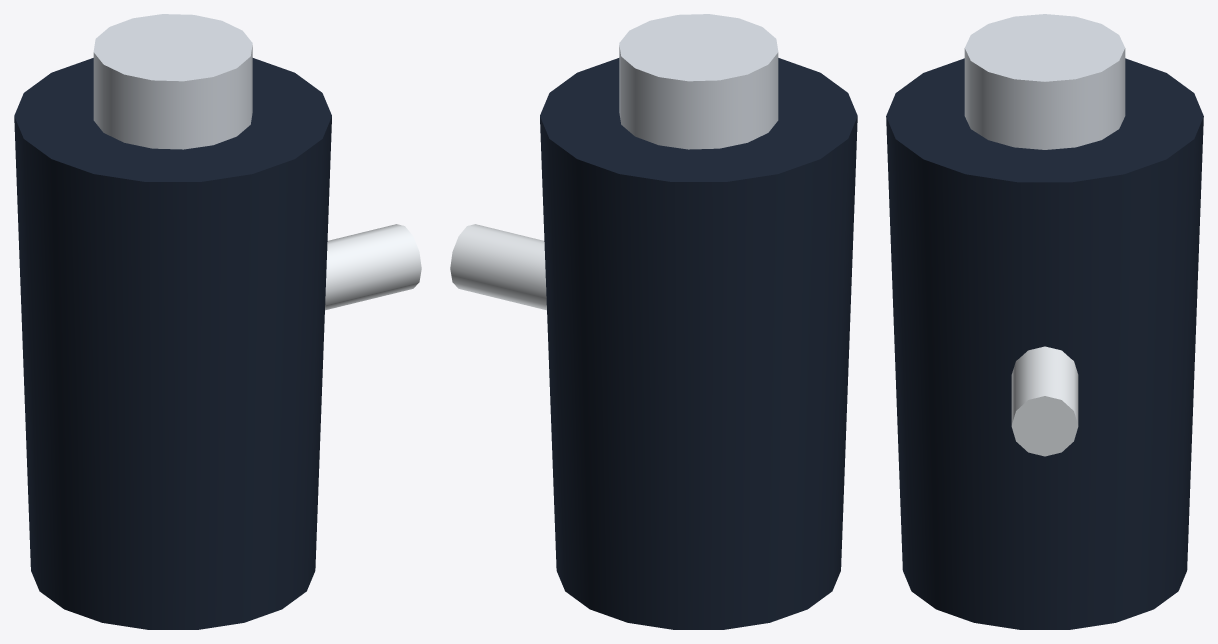
Rendered from fixture-garbage-disposal.glb.
The picture shows the model from 3 angles, left to right: view 1: azimuth 30°, elevation 25°; view 2: azimuth 150°, elevation 25°; view 3: azimuth 270°, elevation 25°; orthographic projection.
Parts seen in each view (by area): view 1: plumbing-fixture-garbage-disposal; view 2: plumbing-fixture-garbage-disposal; view 3: plumbing-fixture-garbage-disposal.
Part boxes in pixels (x1=…): plumbing-fixture-garbage-disposal: x1=14, y1=14, x2=421, y2=629; plumbing-fixture-garbage-disposal: x1=450, y1=14, x2=857, y2=629; plumbing-fixture-garbage-disposal: x1=886, y1=14, x2=1203, y2=629.
Size of the model in its own units: 0.2536 by 0.345 by 0.19.
